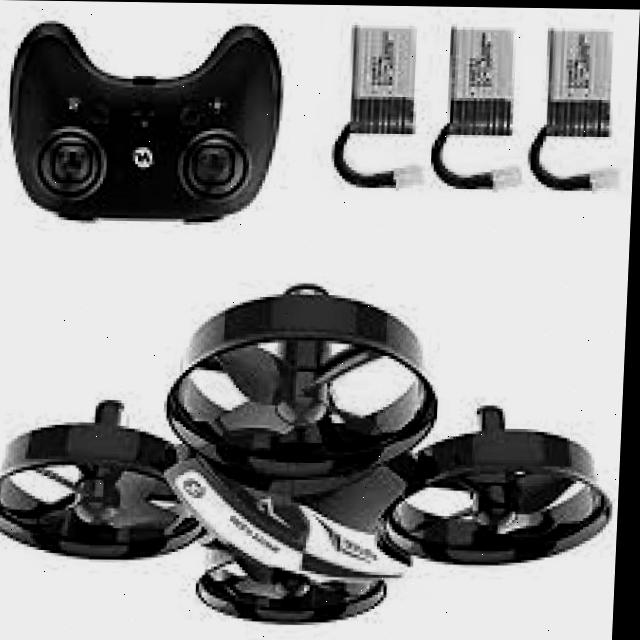drone: (0, 276, 630, 640)
